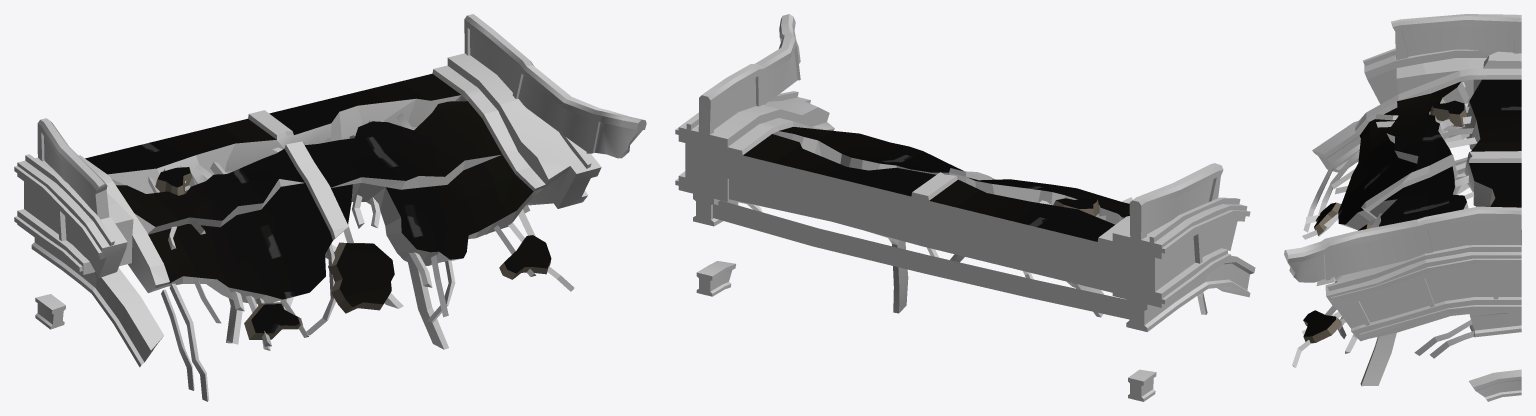
The model's file is SM_Bld_Bridge_End_01.fbx.
3 renders of one model, left to right at view 1: azimuth 30°, elevation 25°; view 2: azimuth 150°, elevation 25°; view 3: azimuth 270°, elevation 25°, orthographic. The views are drawn at different scales.
Parts seen in each view (by area): view 1: SM_Bld_Bridge_End_01; view 2: SM_Bld_Bridge_End_01; view 3: SM_Bld_Bridge_End_01.
Part boxes in pixels (x1=…): SM_Bld_Bridge_End_01: x1=14, y1=14, x2=646, y2=401; SM_Bld_Bridge_End_01: x1=675, y1=14, x2=1255, y2=401; SM_Bld_Bridge_End_01: x1=1284, y1=14, x2=1521, y2=401.
Bounding box in the file's own units: 2137 × 988 × 939.
